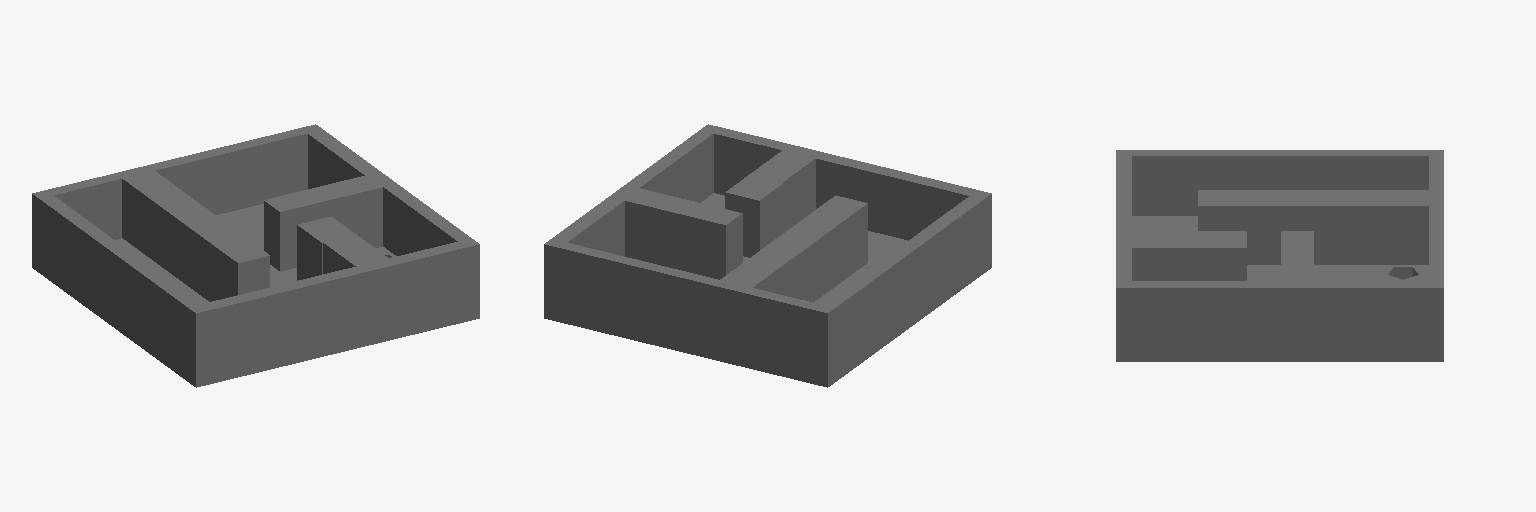
Rendered from mazev1.obj.
3 renders of one model, left to right at view 1: azimuth 30°, elevation 25°; view 2: azimuth 150°, elevation 25°; view 3: azimuth 270°, elevation 25°, orthographic.
Visible parts, largest first — view 1: mazev1:polySurface21; view 2: mazev1:polySurface21; view 3: mazev1:polySurface21.
Part boxes in pixels (x1,y1,x2,y2): mazev1:polySurface21: (32,124,479,387); mazev1:polySurface21: (544,124,991,387); mazev1:polySurface21: (1116,150,1443,361).
Bounding box in the file's own units: 20 × 5 × 20.